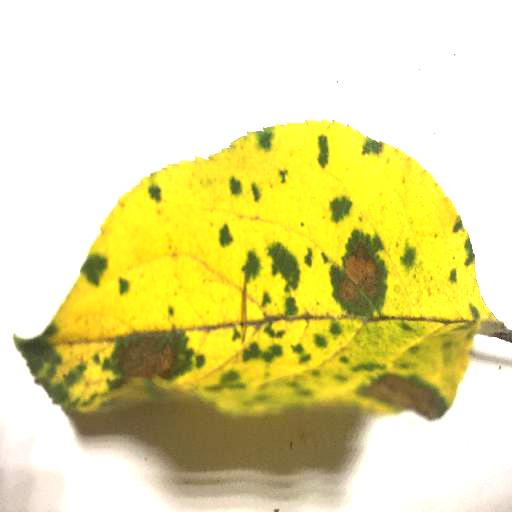Brown_Spot: (242, 249, 322, 380), (27, 339, 193, 396), (327, 245, 381, 311), (366, 372, 442, 411)
